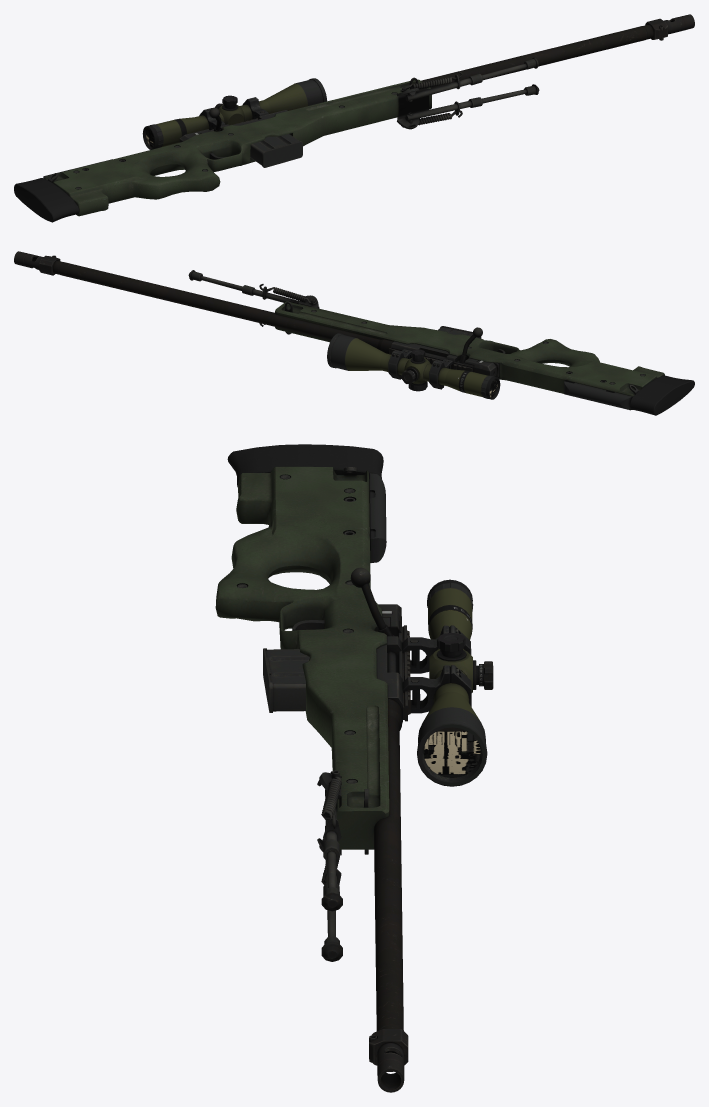
The model's file is AWPv2.obj.
3 views of the same model, one above another, from view 1: azimuth 30°, elevation 25°; view 2: azimuth 150°, elevation 25°; view 3: azimuth 270°, elevation 25° (orthographic). The views are drawn at different scales.
Parts seen in each view (by area): view 1: AWP_body_SMDImport, scope_SMDImport.003, bipod_SMDImport.002, magazine_SMDImport.001; view 2: AWP_body_SMDImport, scope_SMDImport.003, bipod_SMDImport.002; view 3: AWP_body_SMDImport, scope_SMDImport.003, bipod_SMDImport.002, magazine_SMDImport.001.
Part boxes in pixels (bbox=[...]): AWP_body_SMDImport: bbox=[14, 14, 694, 222]; scope_SMDImport.003: bbox=[142, 78, 327, 149]; bipod_SMDImport.002: bbox=[396, 57, 539, 129]; magazine_SMDImport.001: bbox=[250, 134, 302, 167]; AWP_body_SMDImport: bbox=[14, 251, 694, 415]; scope_SMDImport.003: bbox=[327, 333, 500, 399]; bipod_SMDImport.002: bbox=[188, 270, 318, 326]; AWP_body_SMDImport: bbox=[215, 444, 410, 1092]; scope_SMDImport.003: bbox=[402, 579, 493, 786]; bipod_SMDImport.002: bbox=[317, 770, 342, 961]; magazine_SMDImport.001: bbox=[263, 648, 309, 712].
Size of the model in its own units: 23.35 by 2.03 by 4.4.
Materials: 2 (2 with a texture image).
